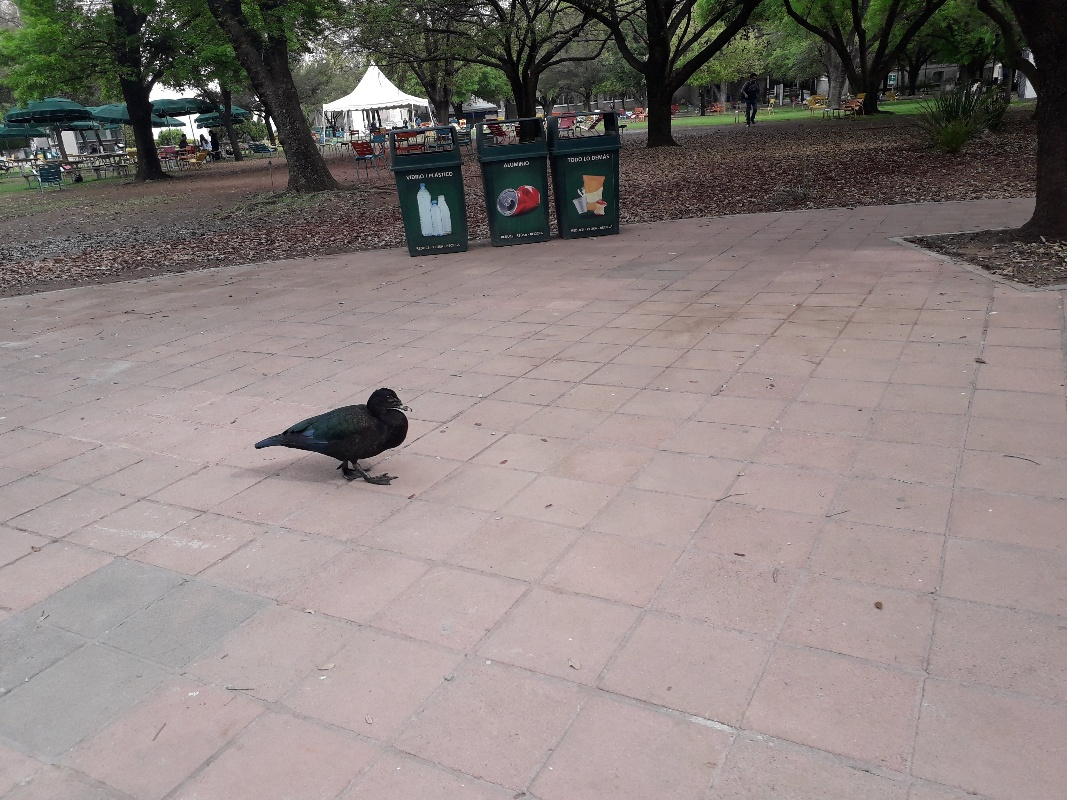pato: (263, 384, 408, 490)
